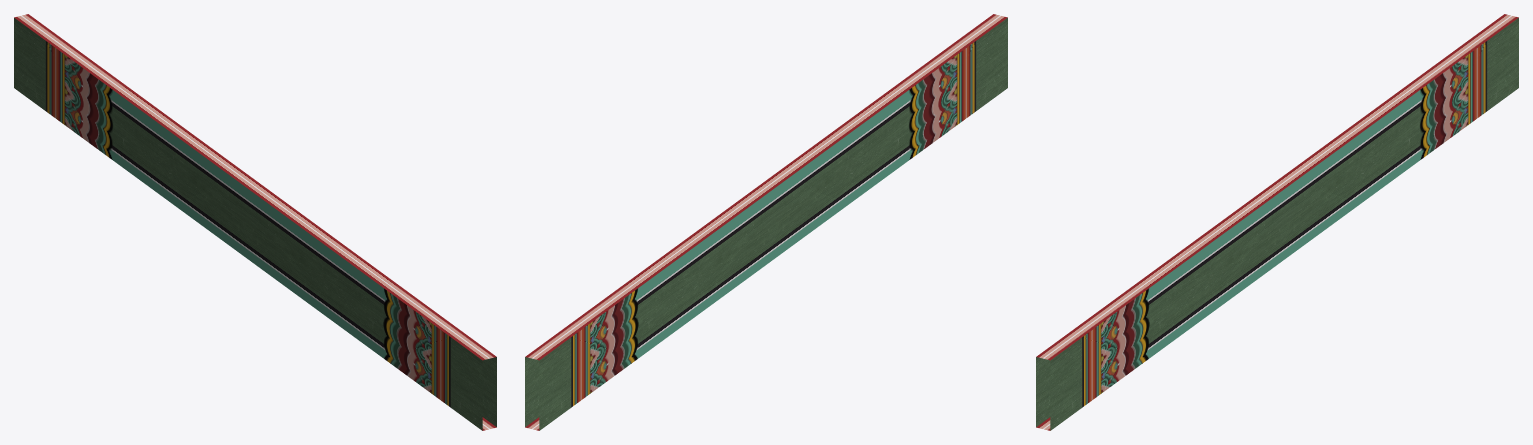
Rendered from SM_CrossBeam04F.fbx.
3 views of the same model, side by side, from view 1: azimuth 30°, elevation 25°; view 2: azimuth 150°, elevation 25°; view 3: azimuth 330°, elevation 25° (orthographic).
Parts seen in each view (by area): view 1: SM_CrossBeam04F; view 2: SM_CrossBeam04F; view 3: SM_CrossBeam04F.
Boxes of the visible parts, x1,y1,x2,y2 form: SM_CrossBeam04F: (14,14,496,430); SM_CrossBeam04F: (525,14,1007,430); SM_CrossBeam04F: (1036,14,1518,430).
Bounding box in the file's own units: 7.63 × 430 × 35.8.
1 material, 1 textured.
